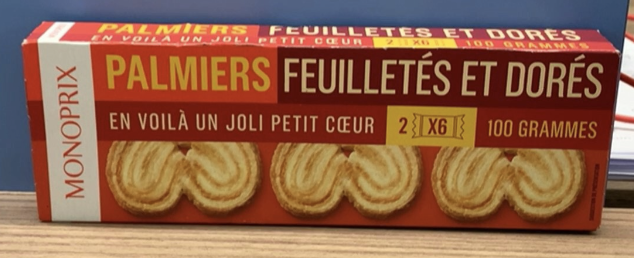cookies_150g: (46, 42, 593, 221)
